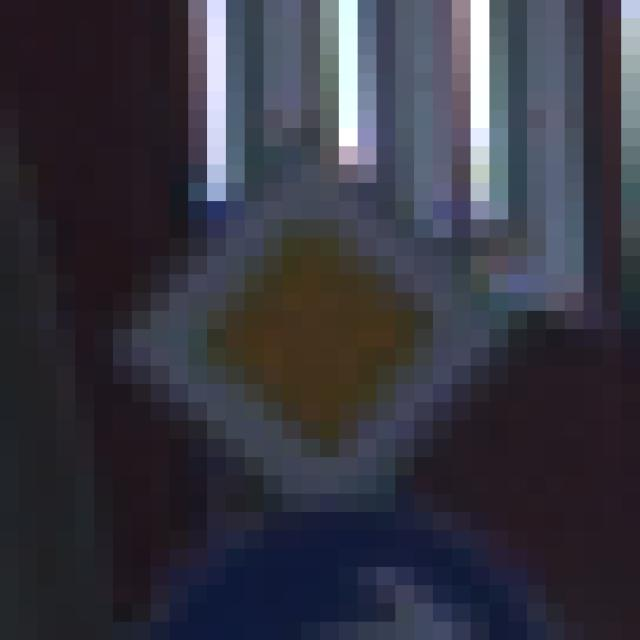Main Road: (114, 111, 547, 550)
